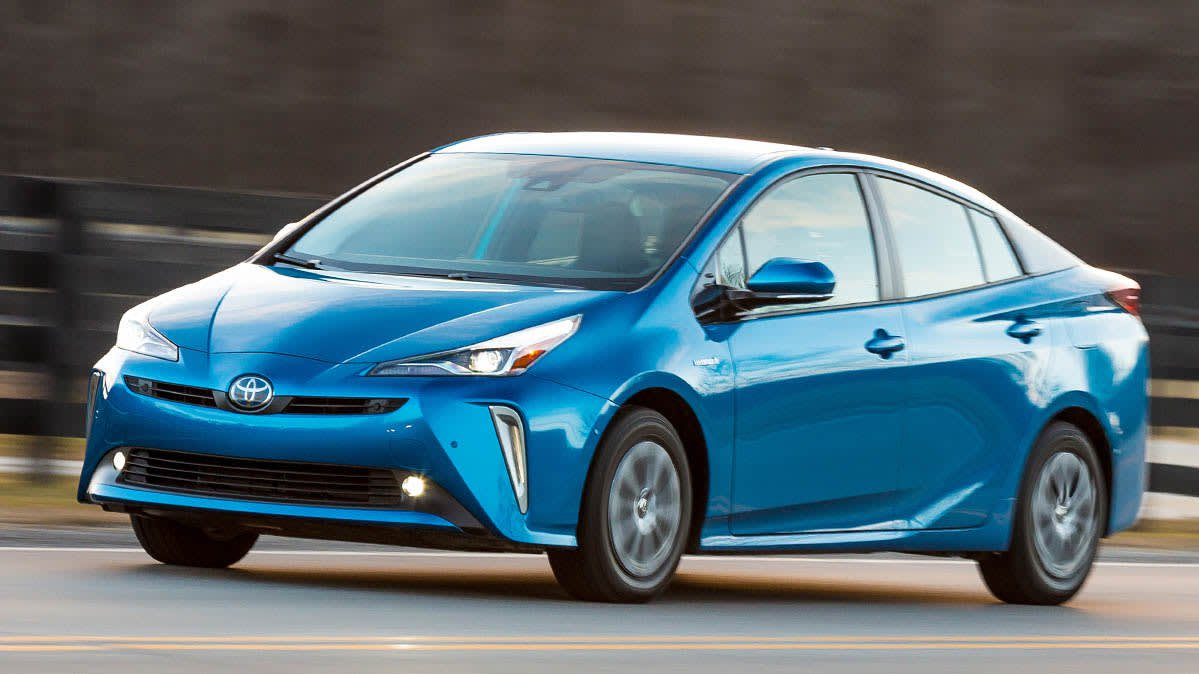car: (68, 118, 1153, 613)
